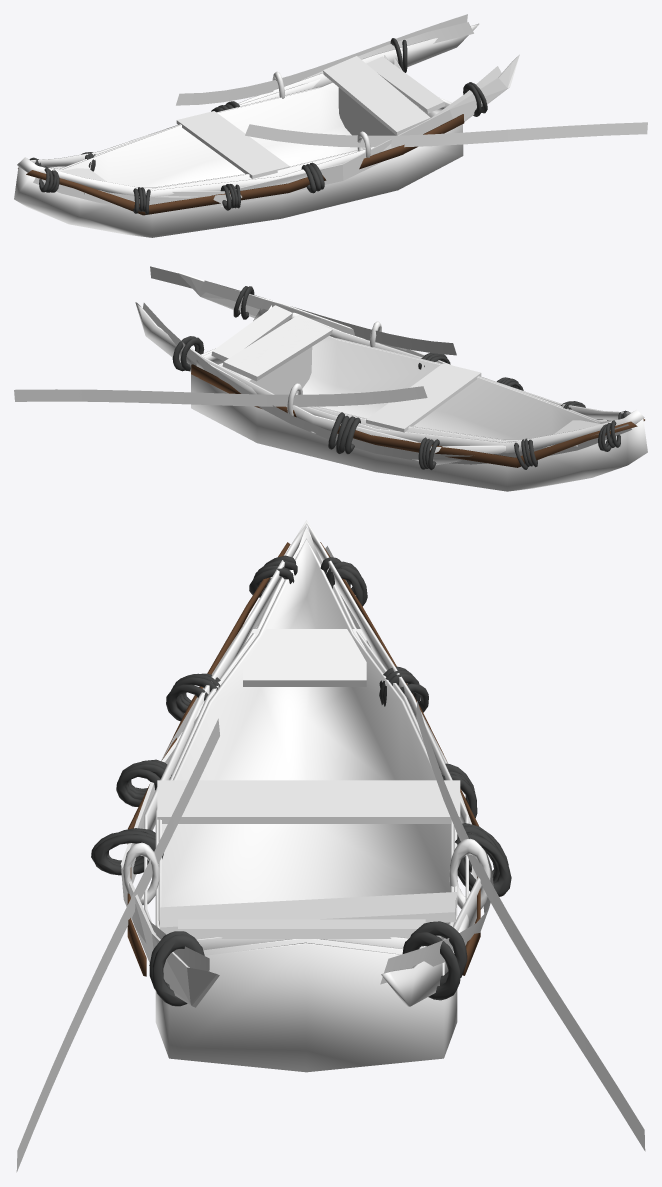
File: boat_small.glb
The picture shows the model from 3 angles, top to bottom: view 1: azimuth 30°, elevation 25°; view 2: azimuth 150°, elevation 25°; view 3: azimuth 270°, elevation 25°; orthographic projection. The views are drawn at different scales.
Visible parts, largest first — view 1: Torus.036, BezierCurve.002; view 2: Torus.036, BezierCurve.002; view 3: Torus.036, BezierCurve.002.
Boxes of the visible parts, x1=… form: Torus.036: x1=14, y1=23, x2=519, y2=237; BezierCurve.002: x1=33, y1=14, x2=647, y2=209; Torus.036: x1=135, y1=272, x2=647, y2=491; BezierCurve.002: x1=14, y1=266, x2=631, y2=464; Torus.036: x1=91, y1=520, x2=511, y2=1072; BezierCurve.002: x1=16, y1=546, x2=645, y2=1172.
Size of the model in its own units: 4.1 by 0.7649 by 1.99.
